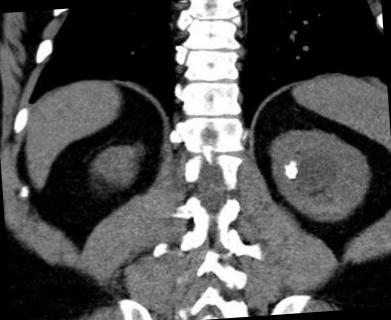Tas_Var: (282, 158, 302, 184)
